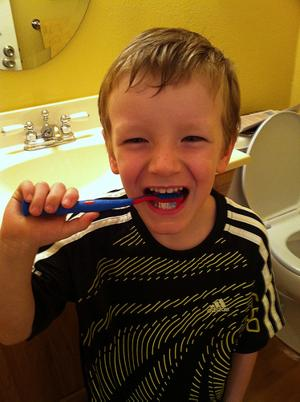person: (2, 28, 287, 402)
